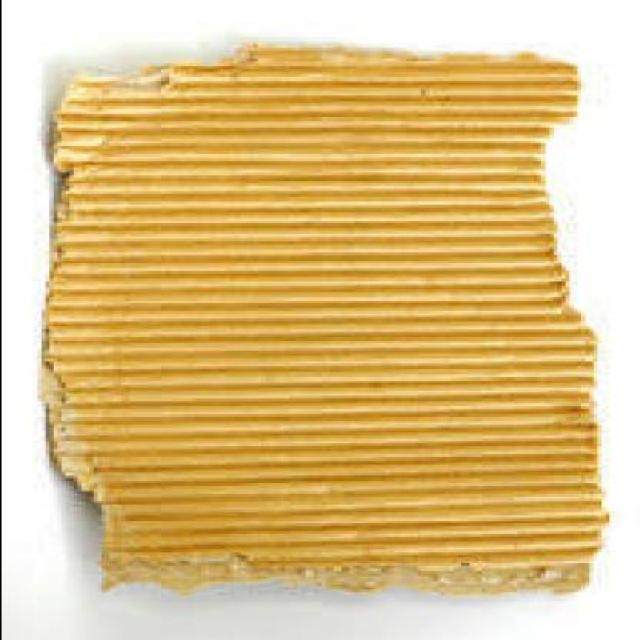CARDBOARD: (44, 42, 611, 590)
